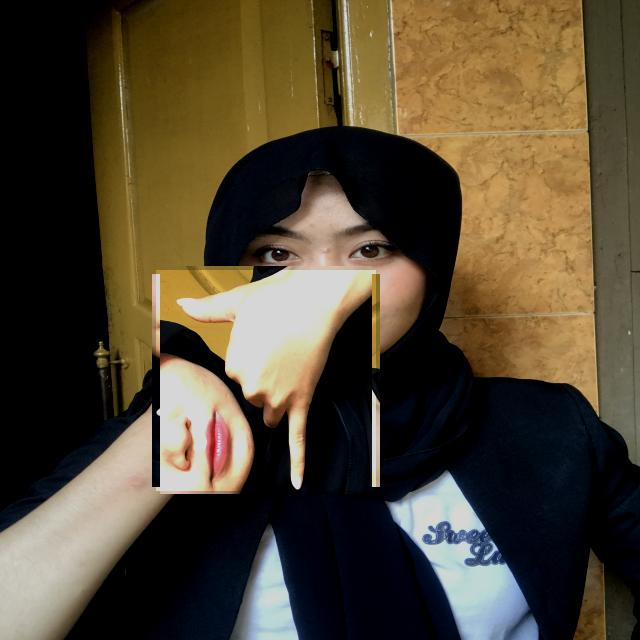telpon: (156, 270, 376, 491)
